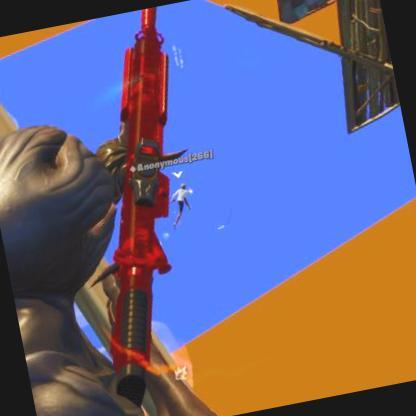person: (273, 0, 333, 23), (172, 182, 196, 223)
